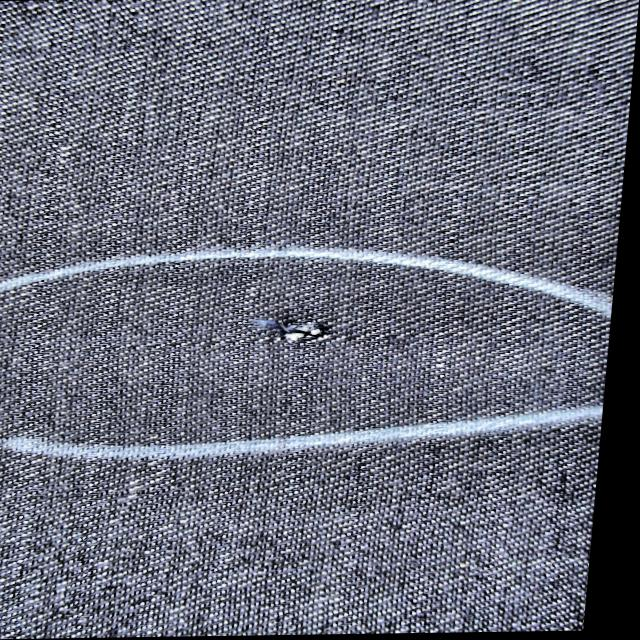Hole: (254, 316, 340, 349)
